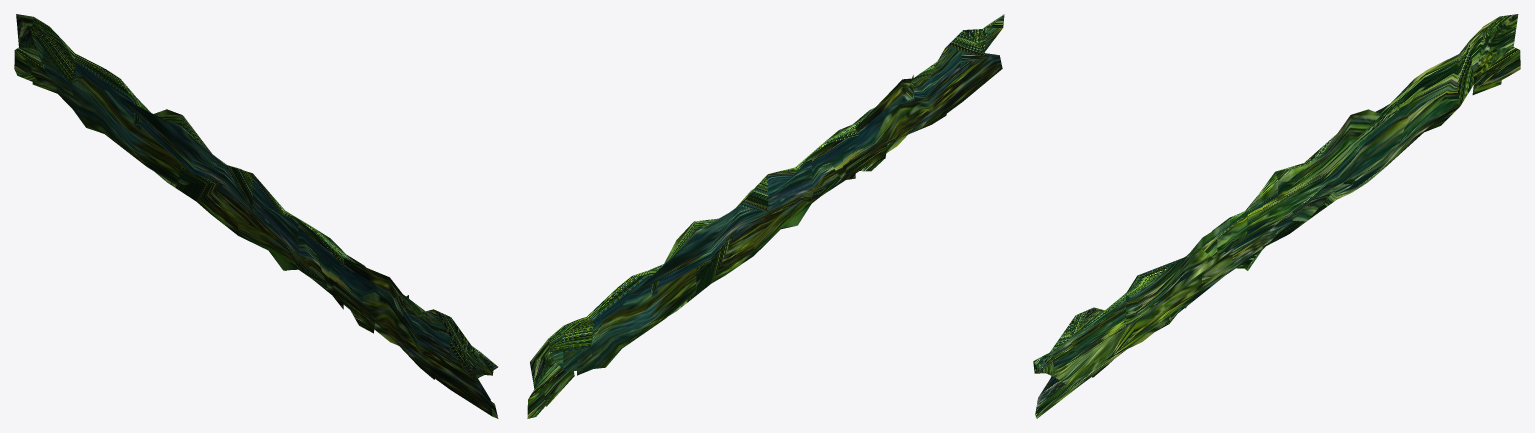
The picture shows the model from 3 angles, left to right: view 1: azimuth 30°, elevation 25°; view 2: azimuth 150°, elevation 25°; view 3: azimuth 330°, elevation 25°; orthographic projection. The views are drawn at different scales.
Parts seen in each view (by area): view 1: algae_cube_Cube; view 2: algae_cube_Cube; view 3: algae_cube_Cube.
Boxes of the visible parts, bbox=[...] form: algae_cube_Cube: bbox=[14, 14, 498, 418]; algae_cube_Cube: bbox=[527, 14, 1004, 418]; algae_cube_Cube: bbox=[1033, 14, 1520, 418].
Bounding box in the file's own units: 0.0118 × 0.2147 × 2.35.
